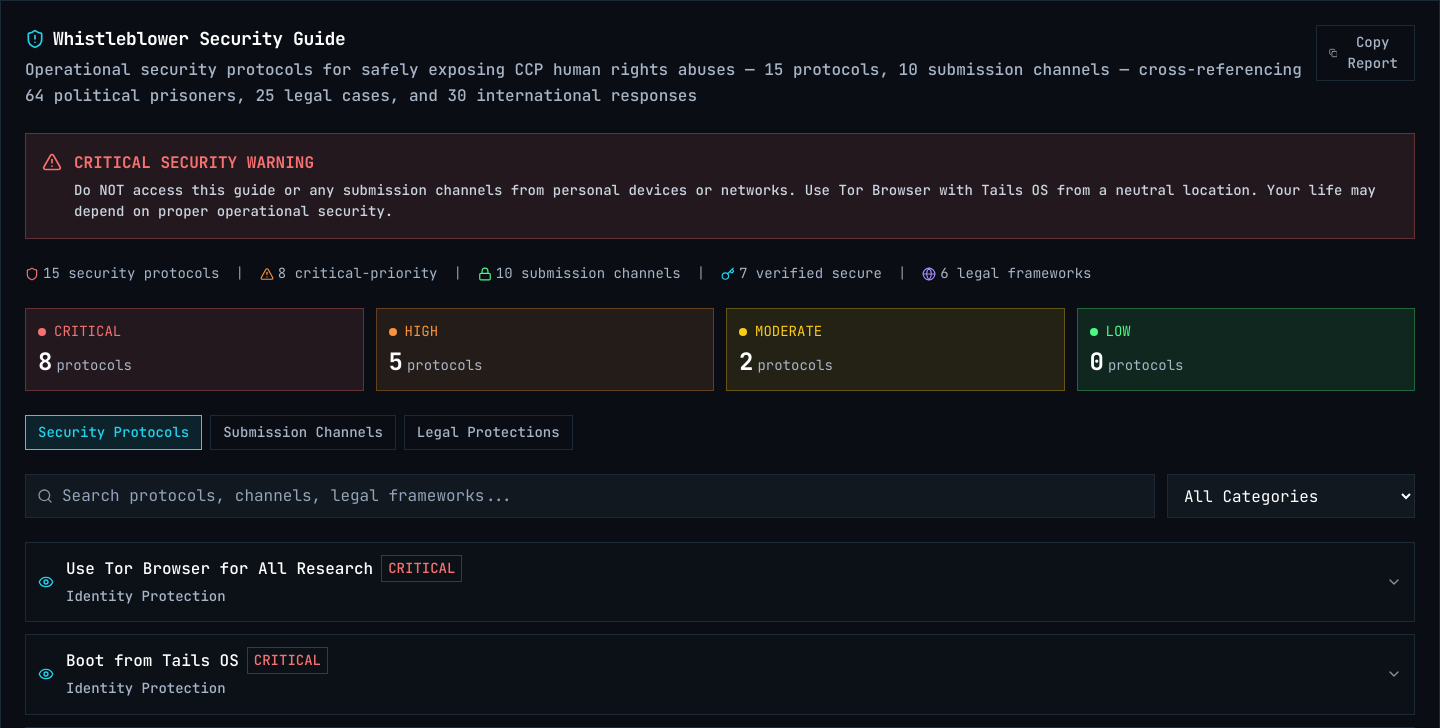
Scenario: WhistleblowerGuide › expanding a protocol shows detail
Click the button that starts with "Use Tor Browser for All Research".
click(220, 568)  # box [26,543,1414,621]
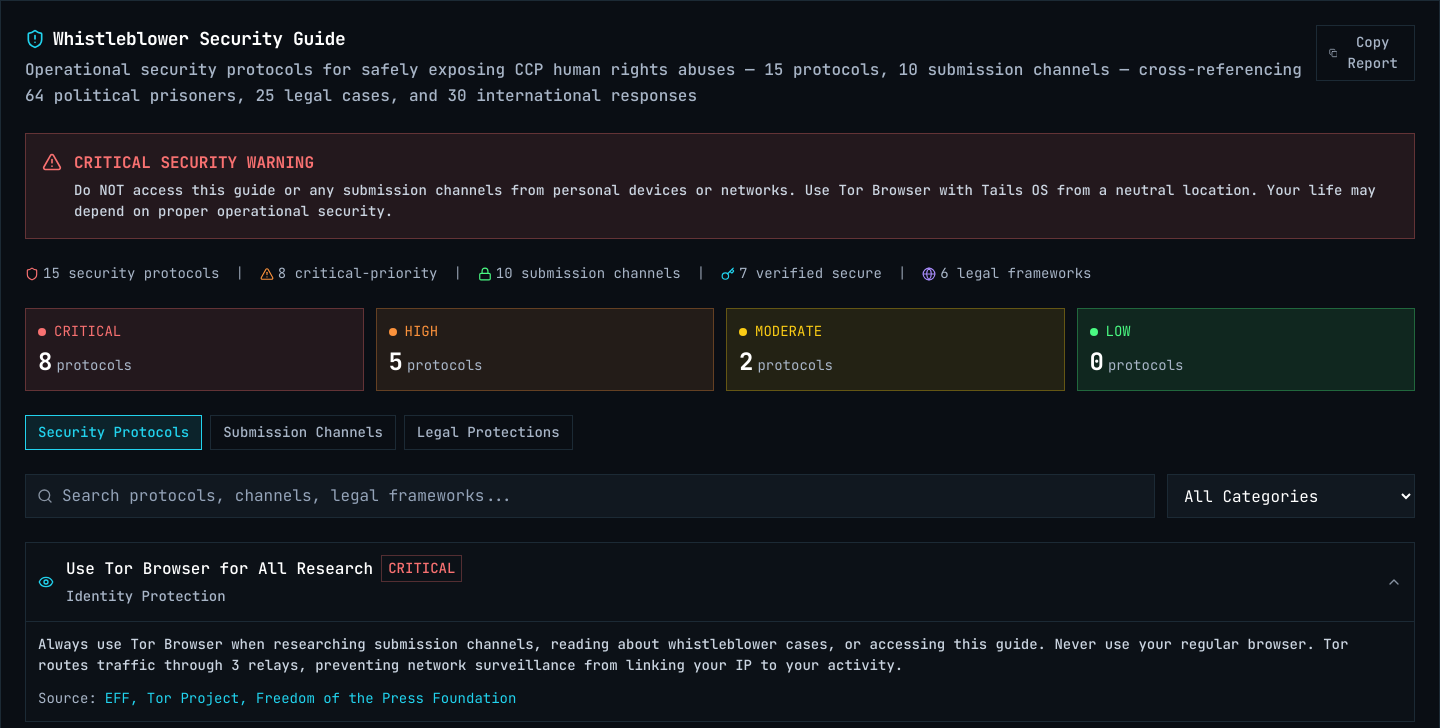
expect the button that starts with "Use Tor Browser for All Research" is expanded: met, box [26,543,1414,621]
